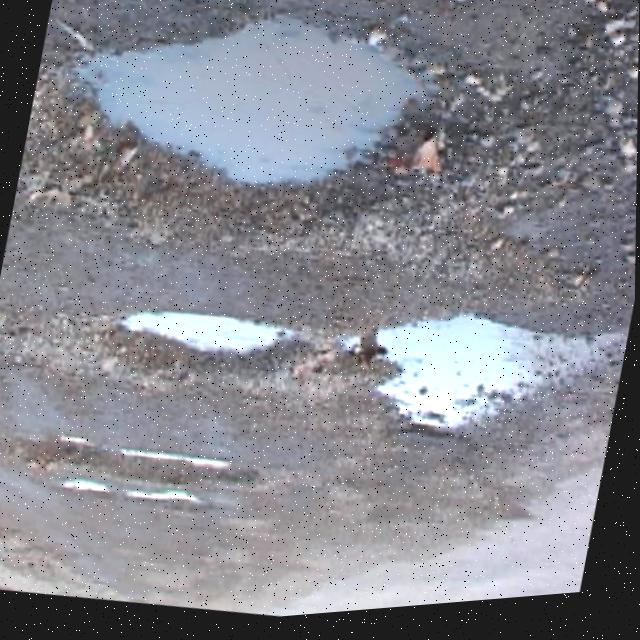Pothole: (28, 0, 482, 283), (325, 288, 584, 483), (0, 403, 259, 509), (97, 283, 305, 401)
